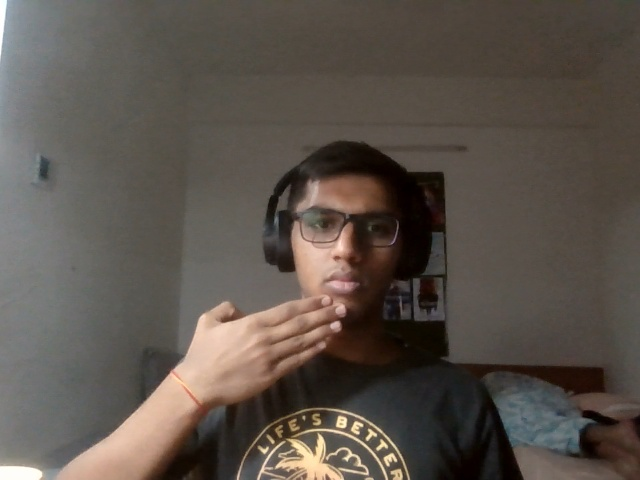thankyou: (172, 294, 354, 395)
